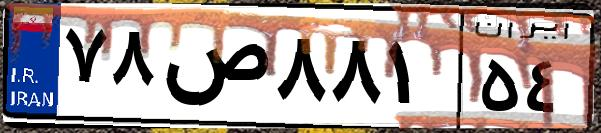1: (385, 28, 445, 110)
4: (525, 38, 570, 115)
5: (475, 38, 525, 113)
7: (57, 26, 110, 100)
8: (270, 28, 330, 110), (330, 28, 385, 110), (110, 28, 158, 98)
ص: (158, 20, 270, 120)
